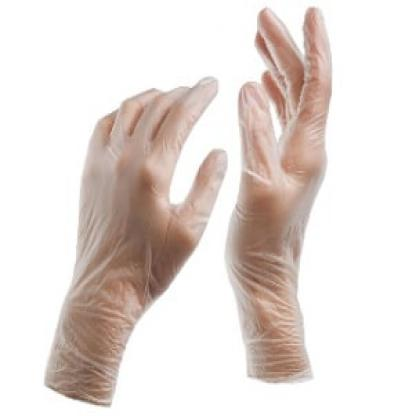with_gloves: (47, 69, 226, 416), (226, 4, 345, 398)
